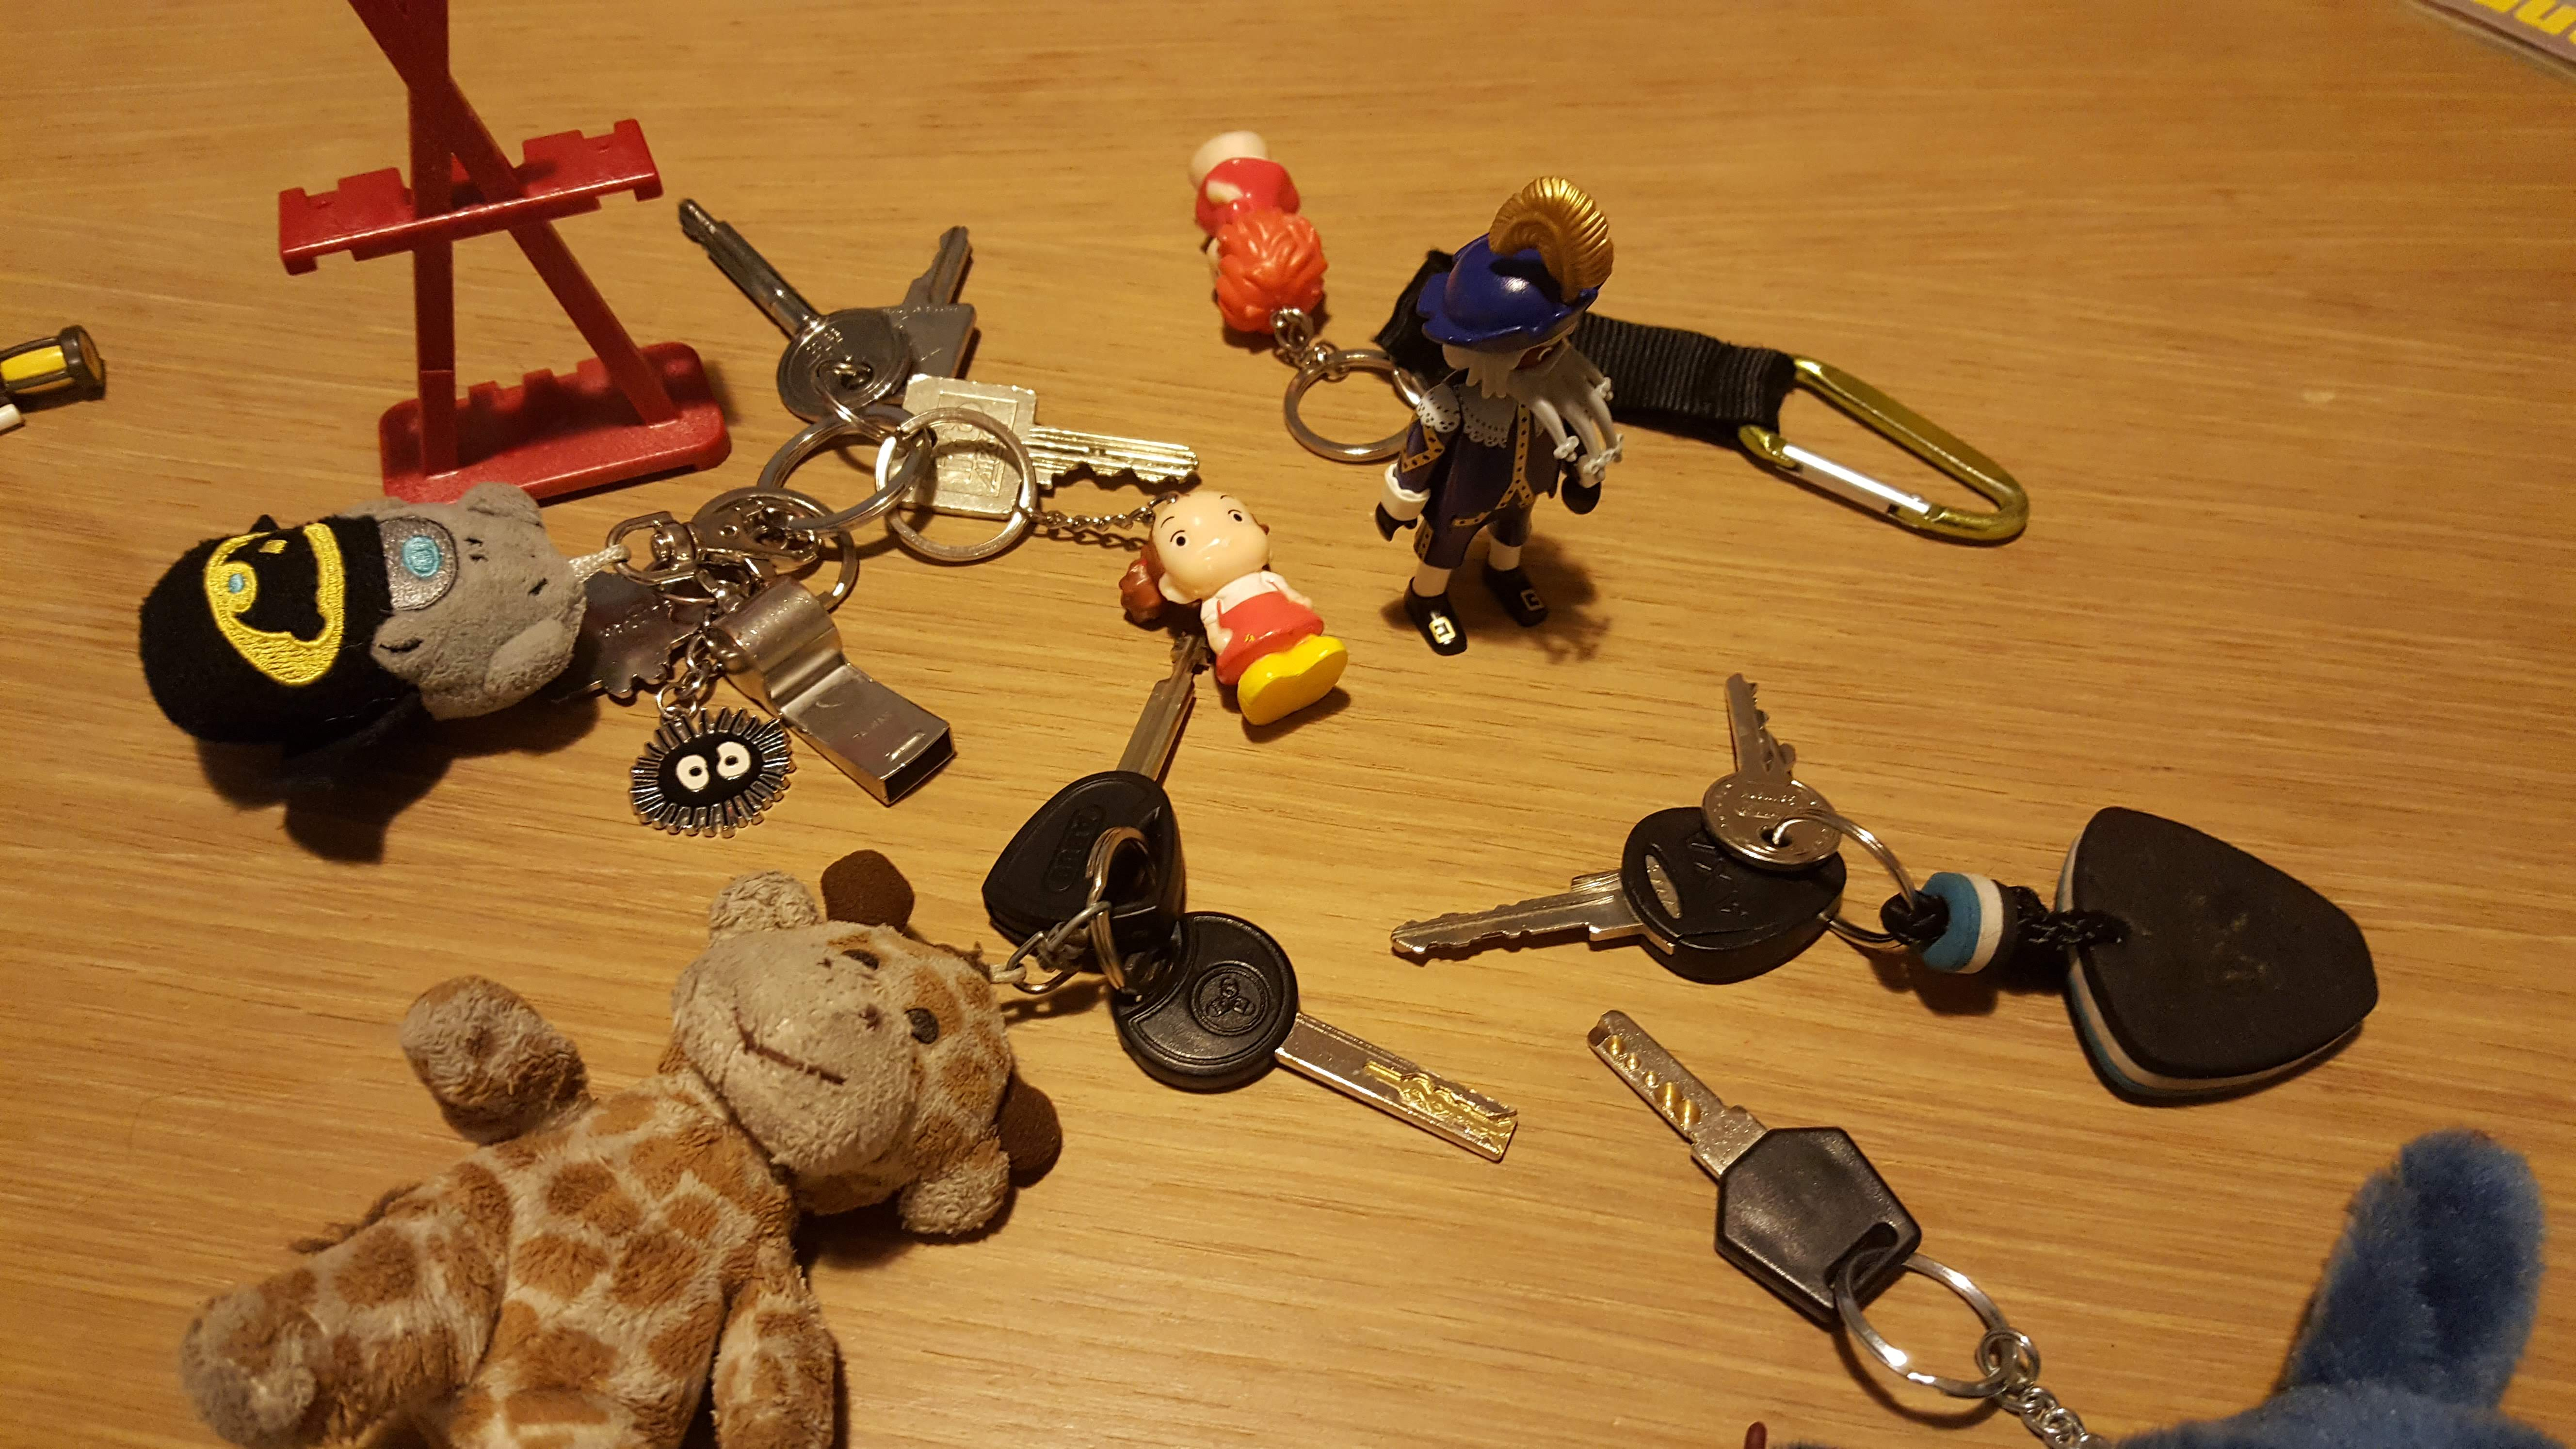key: (678, 203, 911, 419)
